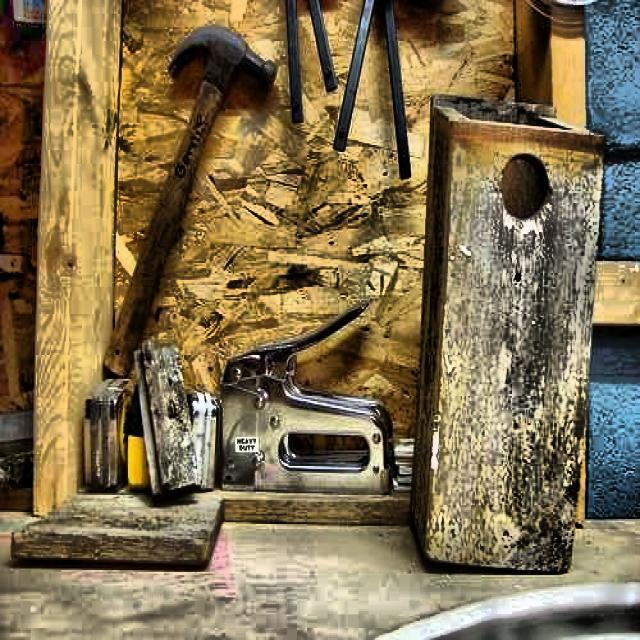hammer: (103, 28, 278, 373)
